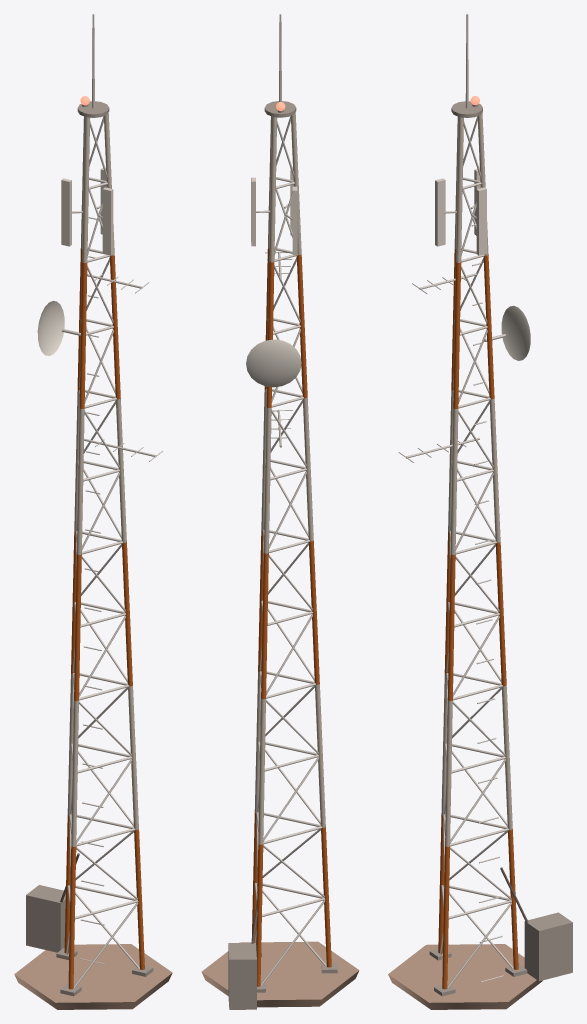
The model's file is D12_lattice_mast_12m.glb.
3 renders of one model, left to right at view 1: azimuth 30°, elevation 25°; view 2: azimuth 150°, elevation 25°; view 3: azimuth 270°, elevation 25°, orthographic.
Parts seen in each view (by area): view 1: leg (×23), foundation, equipment_cabinet, panel_antenna (×2), dish, top_plate; view 2: leg (×21), foundation, dish, equipment_cabinet, panel_antenna, top_plate; view 3: foundation, equipment_cabinet, panel_antenna (×2), dish.
Boxes of the visible parts, x1,y1,x2,y2 form: leg (×23): (68, 113, 144, 989); foundation: (14, 944, 172, 1009); equipment_cabinet: (26, 885, 65, 952); panel_antenna (×2): (61, 178, 113, 255); dish: (37, 301, 64, 355); top_plate: (77, 101, 109, 117); leg (×21): (257, 112, 331, 967); foundation: (201, 941, 359, 1007); dish: (246, 339, 301, 387); equipment_cabinet: (228, 943, 256, 1009); panel_antenna: (292, 186, 297, 255); top_plate: (264, 101, 296, 117); foundation: (388, 944, 542, 1009); equipment_cabinet: (524, 912, 572, 981); panel_antenna (×2): (435, 178, 486, 255); dish: (501, 305, 530, 360).
Bounding box in the file's own units: 1.76 × 13.47 × 2.33.
